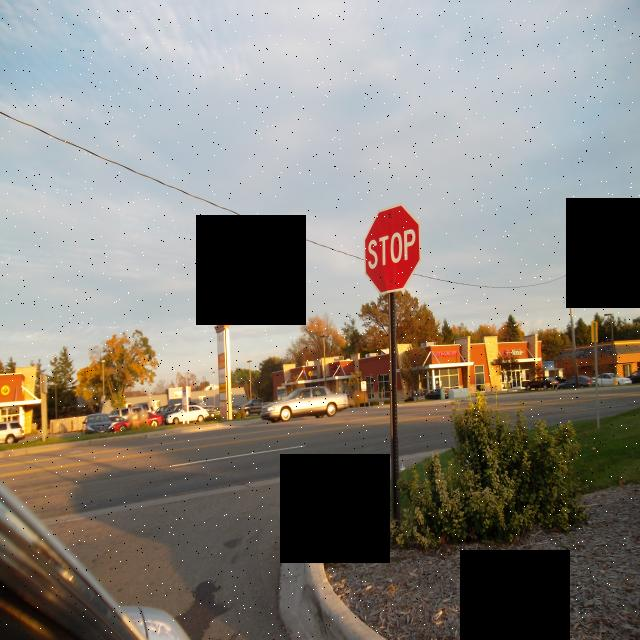stop: (362, 203, 428, 301)
